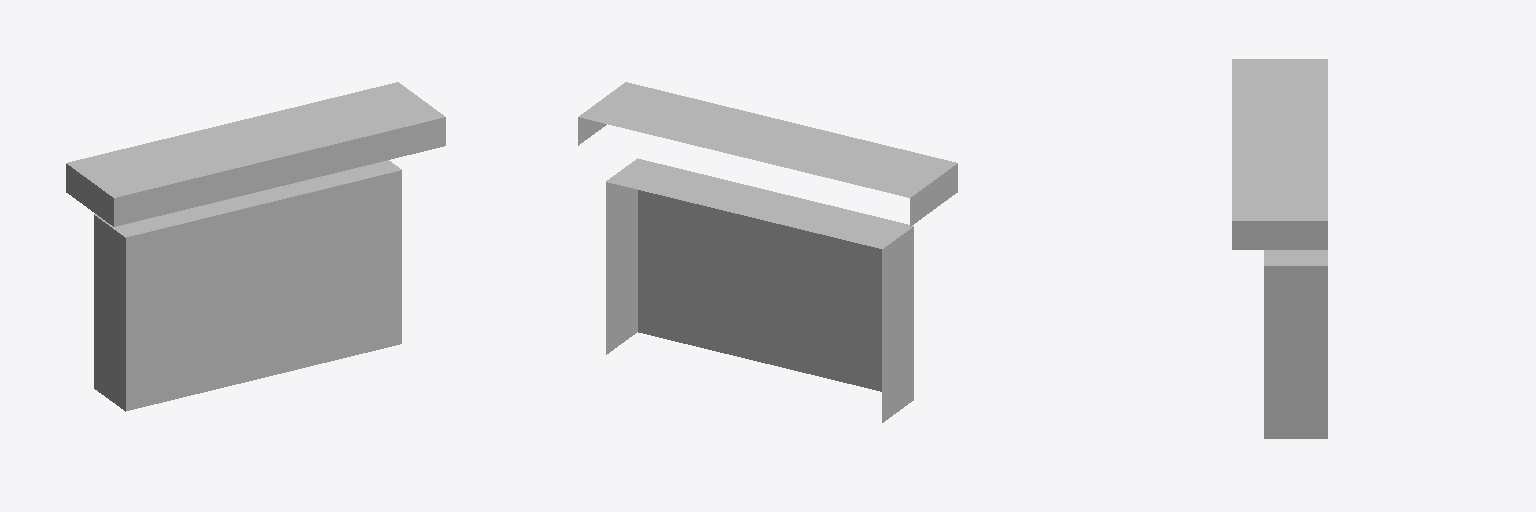
File: window_sill.obj
The picture shows the model from 3 angles: view 1: azimuth 30°, elevation 25°; view 2: azimuth 150°, elevation 25°; view 3: azimuth 270°, elevation 25°; orthographic projection.
Parts seen in each view (by area): view 1: WindowSill1_00; view 2: WindowSill1_00; view 3: WindowSill1_00.
Boxes of the visible parts, box(x1,y1,x2,y2) form: WindowSill1_00: box(66, 82, 445, 411); WindowSill1_00: box(578, 82, 957, 422); WindowSill1_00: box(1232, 59, 1327, 438).
Bounding box in the file's own units: 1.2 × 0.8 × 0.3.